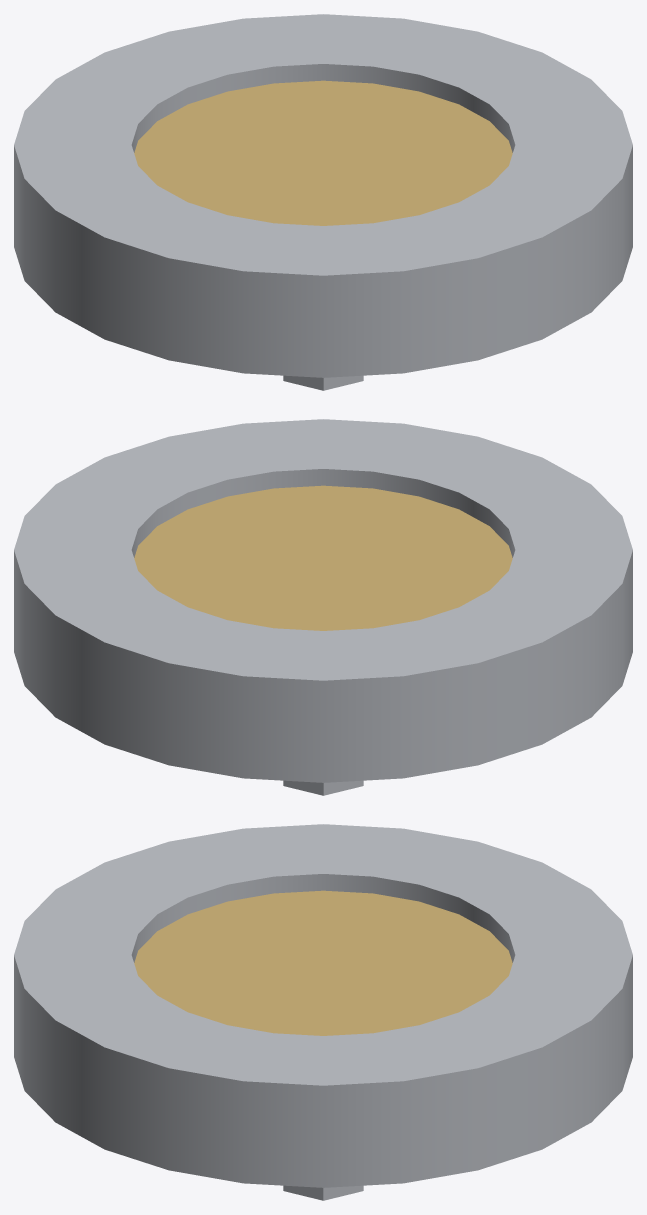
The model's file is ballast.glb.
The picture shows the model from 3 angles, top to bottom: view 1: azimuth 30°, elevation 25°; view 2: azimuth 150°, elevation 25°; view 3: azimuth 270°, elevation 25°; orthographic projection.
Visible parts, largest first — view 1: core_ballast; view 2: core_ballast; view 3: core_ballast.
Part boxes in pixels (x1,y1,x2,y2): core_ballast: [14, 14, 632, 390]; core_ballast: [14, 419, 632, 795]; core_ballast: [14, 824, 632, 1200].
Bounding box in the file's own units: 20 × 5.64 × 20.
